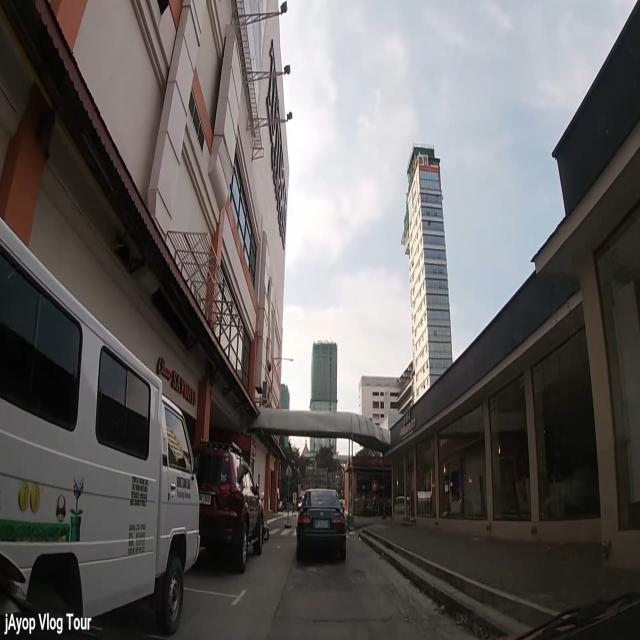car: (194, 439, 266, 574), (296, 488, 348, 562)
truck: (0, 213, 199, 640)
